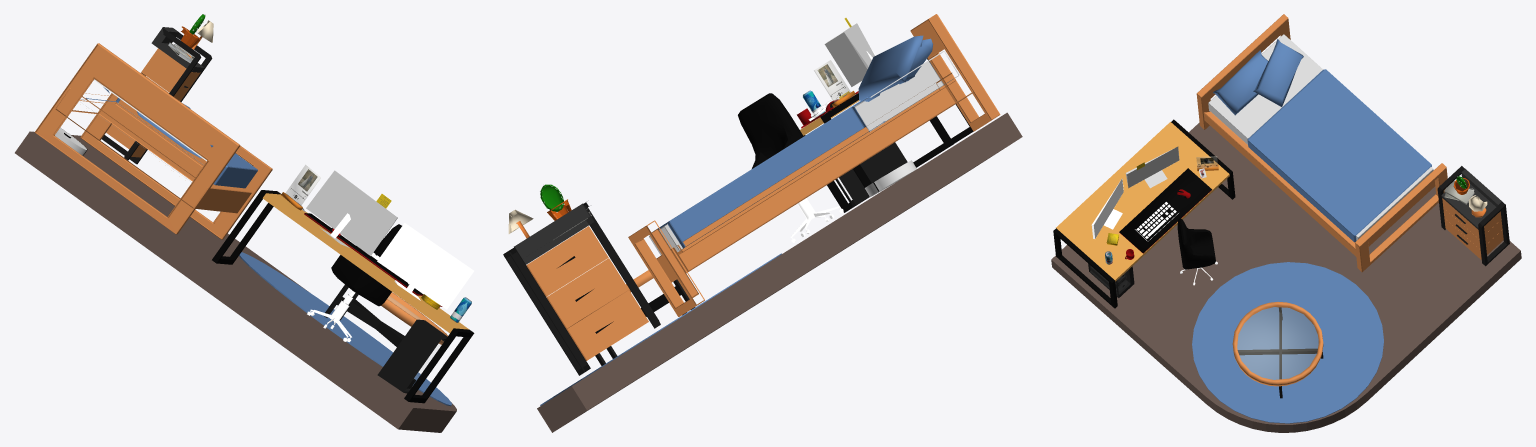
File: room.glb
3 renders of one model, left to right at view 1: azimuth 30°, elevation 25°; view 2: azimuth 150°, elevation 25°; view 3: azimuth 270°, elevation 25°, orthographic. The views are drawn at different scales.
Parts seen in each view (by area): view 1: Cube.055, bed, comps, table, Stand, rug, desk, coffee_table, chair, chair_base; view 2: bed, Cube.055, Stand, table, chair, pillows, desk, Screen, coffee_table, comps, Roomba, chair_base; view 3: Cube.055, bed, rug, table, coffee_table, Stand, desk, pillows, chair, Screen2, comps, Screen.
Boxes of the visible parts, box(x1,y1,x2,y2) form: Cube.055: box(15, 131, 456, 432); bed: box(35, 43, 272, 239); comps: box(306, 170, 473, 309); table: box(212, 190, 474, 403); Stand: box(102, 14, 213, 164); rug: box(239, 252, 451, 406); desk: box(281, 165, 471, 322); coffee_table: box(324, 284, 447, 346); chair: box(331, 224, 401, 306); chair_base: box(307, 291, 355, 342); bed: box(628, 14, 1000, 316); Cube.055: box(537, 112, 1022, 432); Stand: box(503, 184, 660, 375); table: box(800, 58, 973, 212); chair: box(738, 93, 803, 168); pillows: box(858, 35, 933, 101); desk: box(797, 60, 858, 128); Screen: box(824, 32, 867, 86); coffee_table: box(566, 270, 694, 365); comps: box(824, 18, 875, 86); Roomba: box(865, 160, 916, 196); chair_base: box(790, 198, 843, 242); Cube.055: box(1051, 122, 1521, 432); bed: box(1196, 14, 1447, 272); rug: box(1192, 262, 1383, 423); table: box(1053, 119, 1235, 308); coffee_table: box(1232, 302, 1323, 398); Stand: box(1437, 166, 1509, 266); desk: box(1105, 156, 1218, 264); pillows: box(1213, 39, 1303, 115); chair: box(1177, 218, 1215, 269); Screen2: box(1127, 146, 1179, 187); comps: box(1091, 146, 1179, 238); Screen: box(1093, 178, 1123, 238).
Bounding box in the file's own units: 4.06 × 4.1 × 5.64.
Materials: 32 (6 with a texture image).
